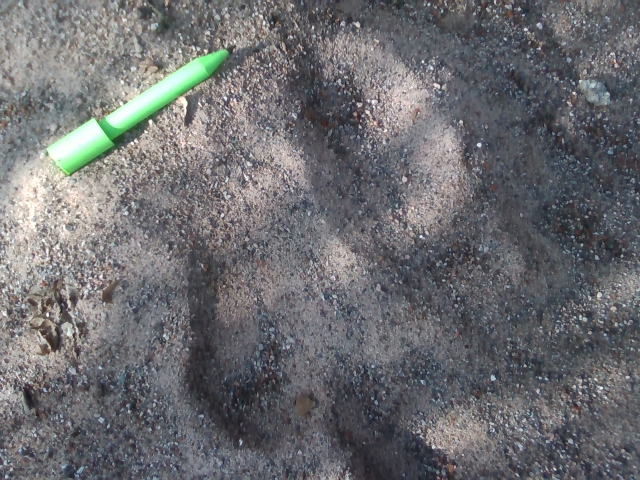Probe: (39, 37, 242, 181)
